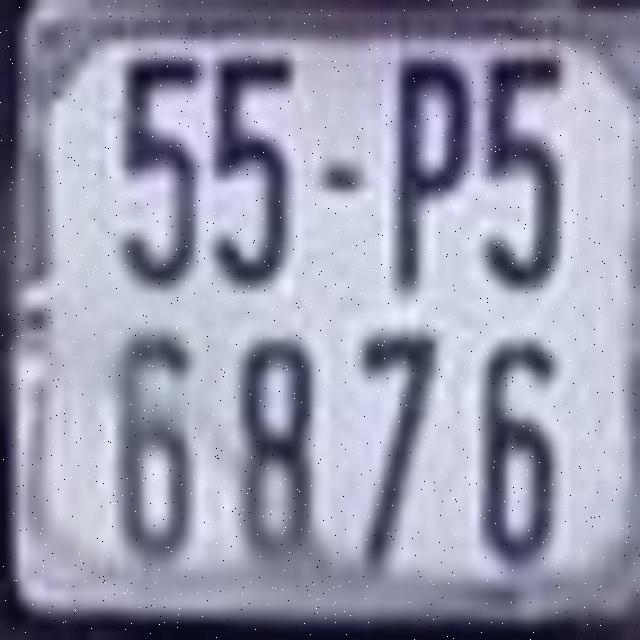5: (482, 51, 568, 290), (210, 50, 296, 288), (117, 52, 202, 287)
6: (477, 332, 561, 566), (115, 328, 195, 560)
7: (355, 325, 440, 572)
8: (238, 335, 314, 563)
P: (391, 51, 473, 292)
